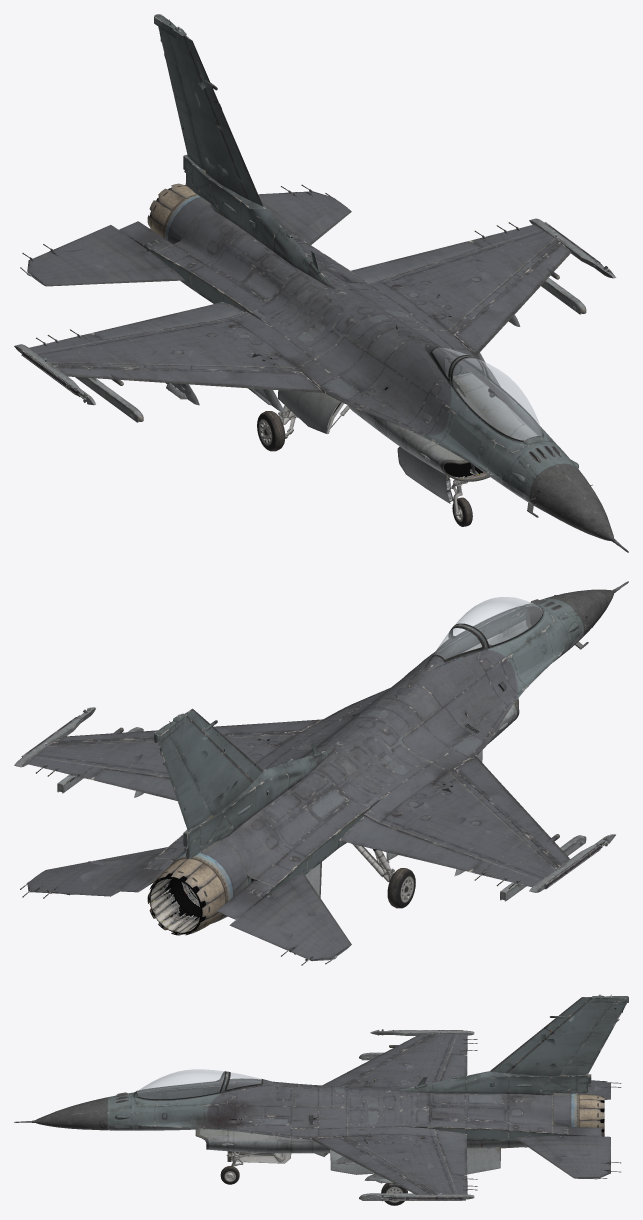
Rendered from VEH_F16.glb.
3 views of the same model, one above another, from view 1: azimuth 30°, elevation 25°; view 2: azimuth 150°, elevation 25°; view 3: azimuth 270°, elevation 25° (orthographic). The views are drawn at different scales.
Visible parts, largest first — view 1: ob_veh_airplane_f16_base_s0, ob_veh_airplane_f16_base_s1, ob_veh_airplane_f16_base_s4; view 2: ob_veh_airplane_f16_base_s0, ob_veh_airplane_f16_base_s1, ob_veh_airplane_f16_base_s4; view 3: ob_veh_airplane_f16_base_s0, ob_veh_airplane_f16_base_s1, ob_veh_airplane_f16_base_s4.
Boxes of the visible parts, left/top/right/bottom form: ob_veh_airplane_f16_base_s0: left=14, top=14, right=628, bottom=552; ob_veh_airplane_f16_base_s1: left=20, top=183, right=538, bottom=526; ob_veh_airplane_f16_base_s4: left=44, top=26, right=556, bottom=500; ob_veh_airplane_f16_base_s0: left=14, top=581, right=628, bottom=901; ob_veh_airplane_f16_base_s1: left=20, top=620, right=588, bottom=965; ob_veh_airplane_f16_base_s4: left=44, top=597, right=556, bottom=870; ob_veh_airplane_f16_base_s0: left=14, top=994, right=628, bottom=1201; ob_veh_airplane_f16_base_s1: left=105, top=1080, right=621, bottom=1205; ob_veh_airplane_f16_base_s4: left=137, top=994, right=601, bottom=1194.
Size of the model in its own units: 9.65 by 5.14 by 15.04.
Materials: 5 (4 with a texture image).
